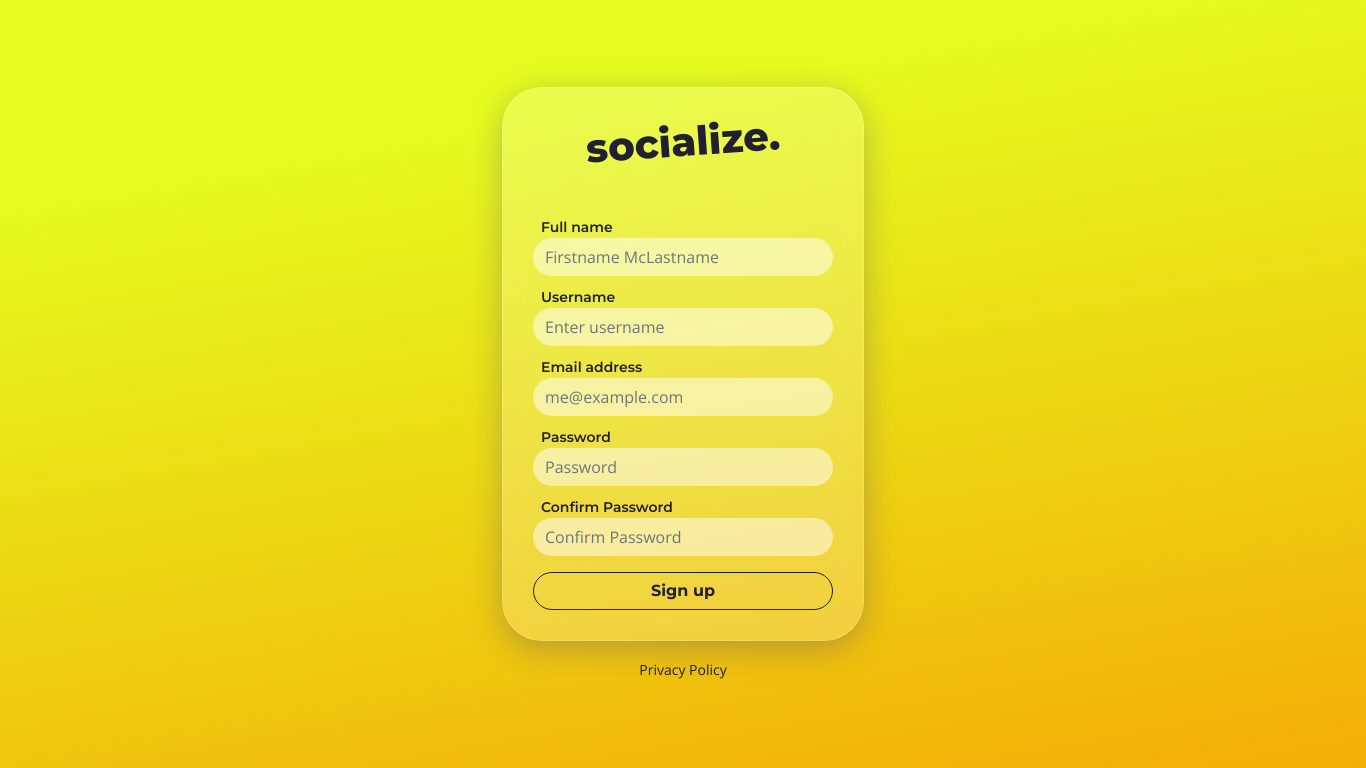
Scenario: Sign up page › Functionality › displays error message if passwords don't match
Fill with unmatching passwords
Type "Cypress Tester" into the field named "name".
click(683, 257); type("Cypress Tester")  # box x1=533 y1=238 x2=833 y2=276
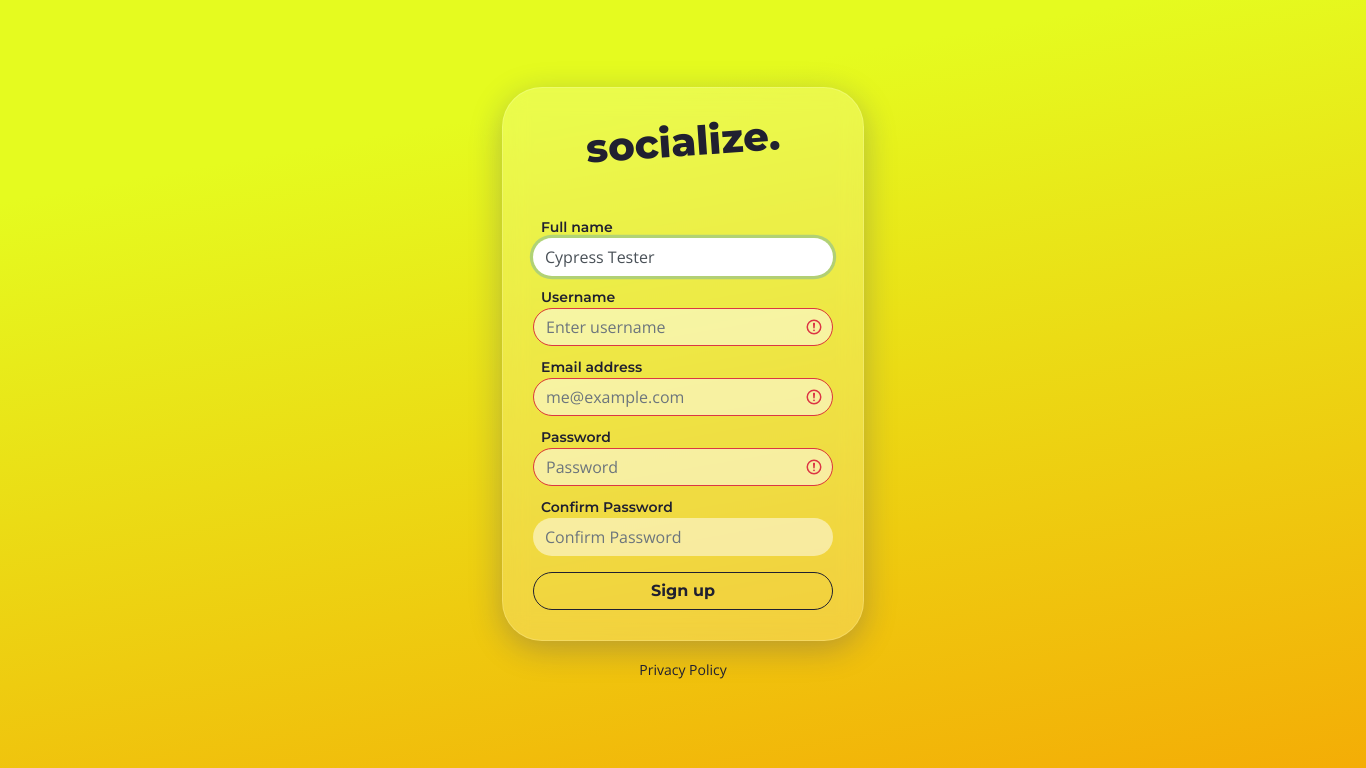
Type "cypresstester" into the field named "username".
click(683, 327); type("cypresstester")  # box x1=533 y1=308 x2=833 y2=346
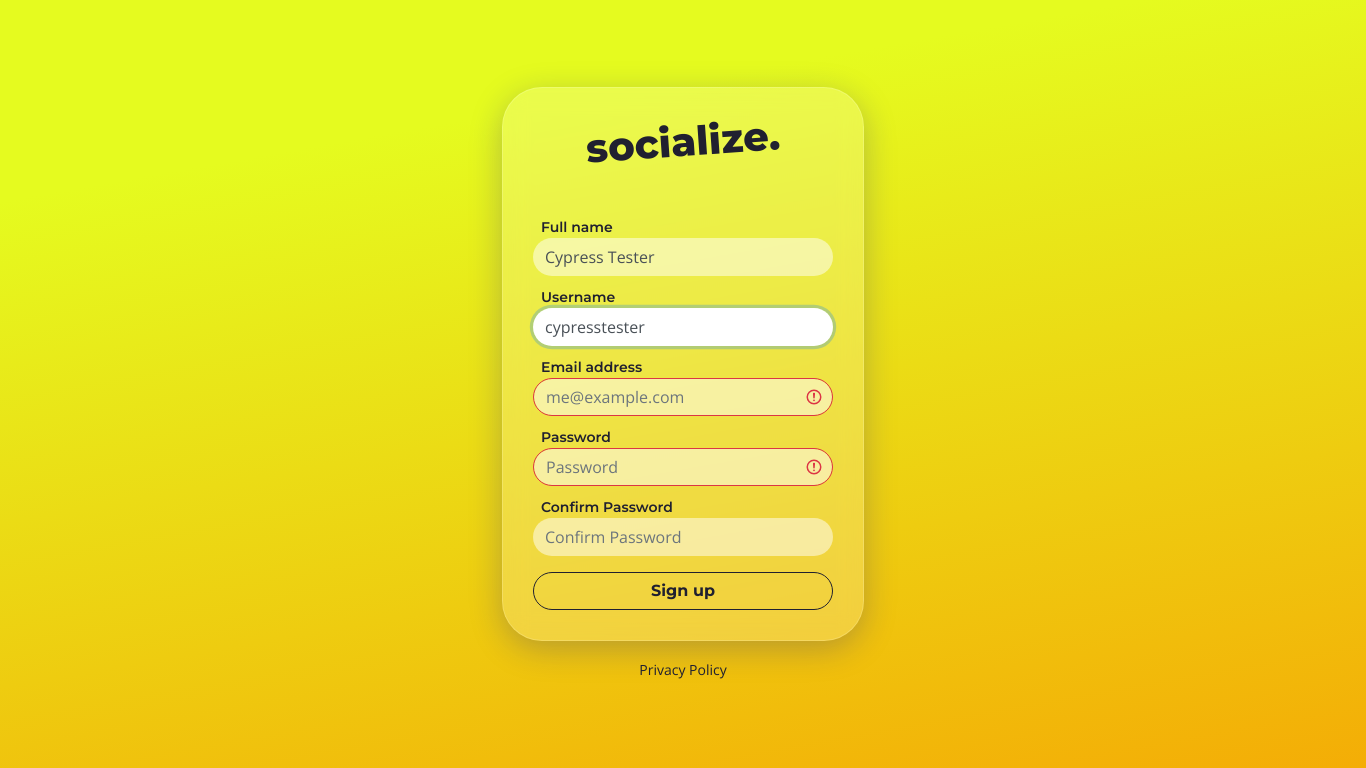
Type "cypress@example.com" into the field named "email".
click(683, 397); type("cypress@example.com")  # box x1=533 y1=378 x2=833 y2=416
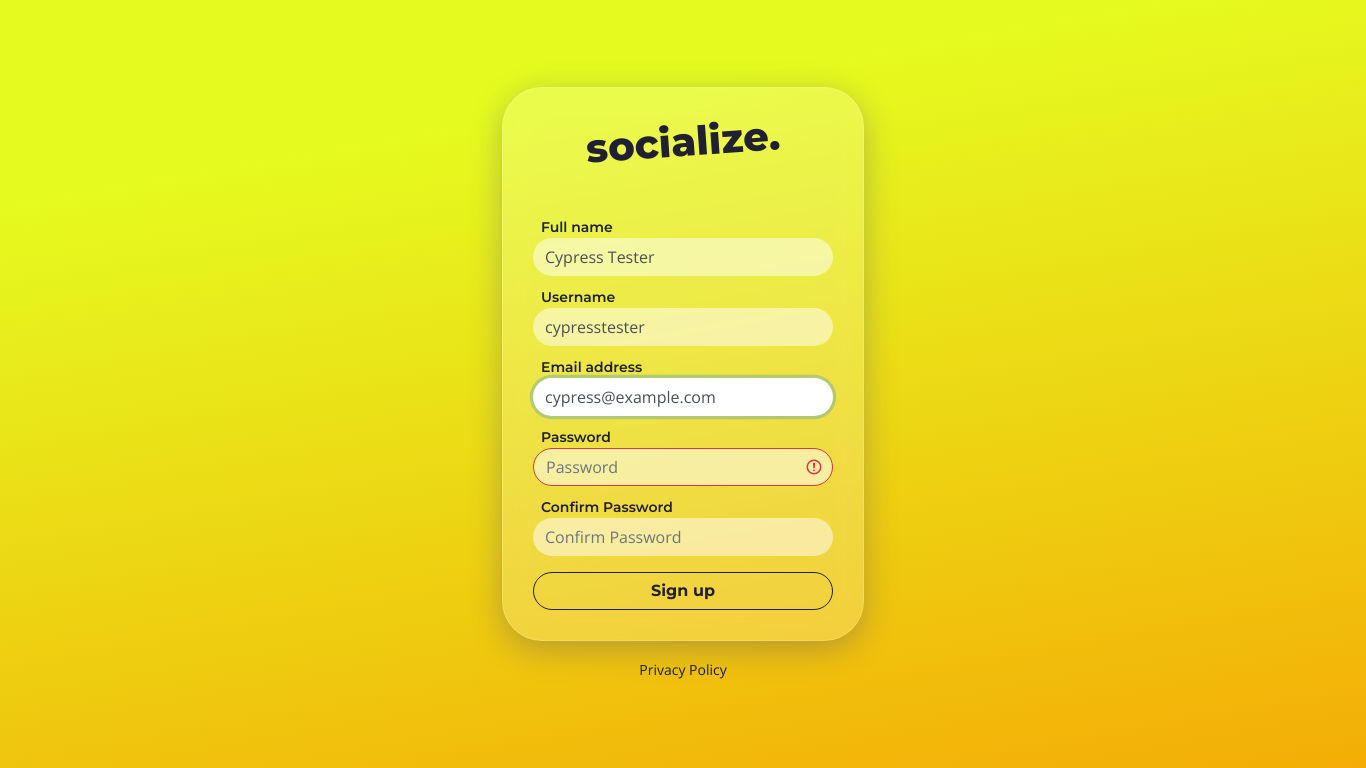
Type "12345678" into the password field named "password".
click(683, 467); type("12345678")  # box x1=533 y1=448 x2=833 y2=486
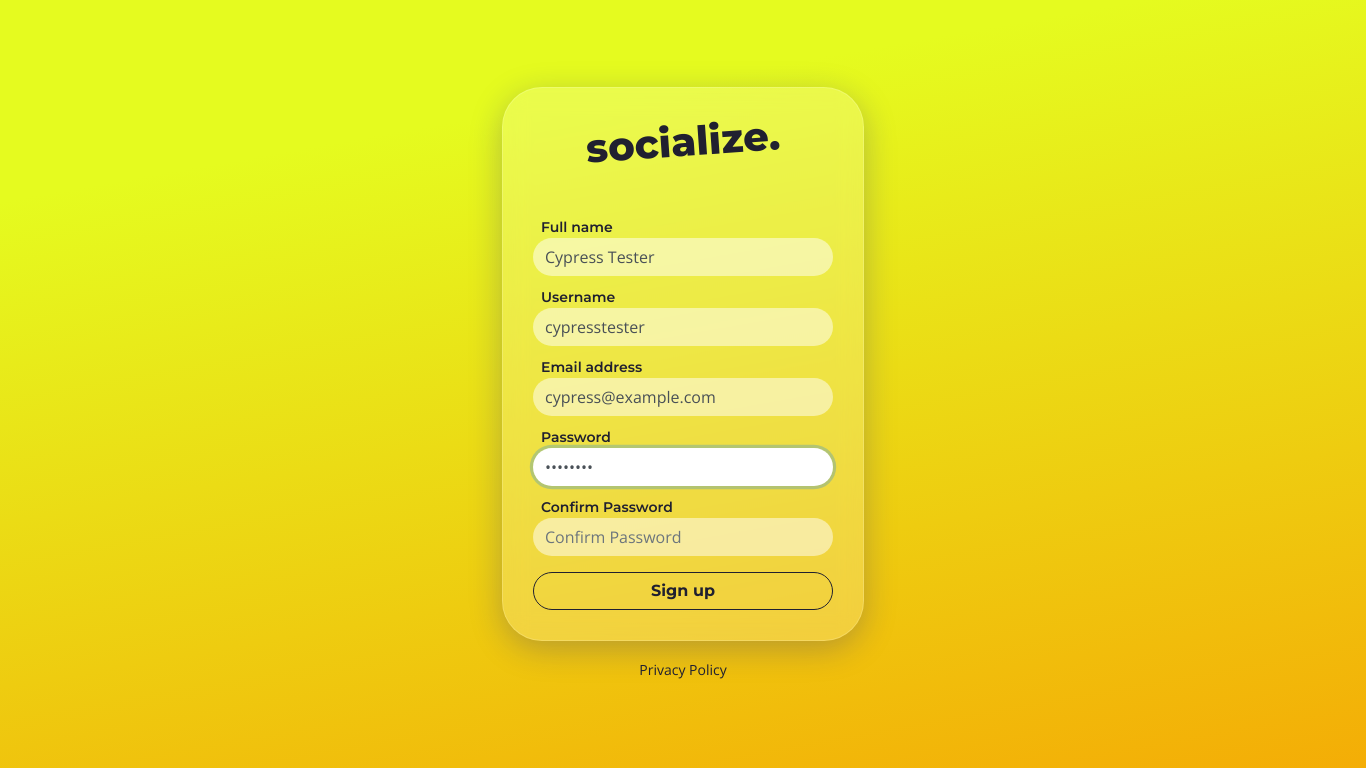
Type "password" into the password field named "passwordConf".
click(683, 537); type("password")  # box x1=533 y1=518 x2=833 y2=556
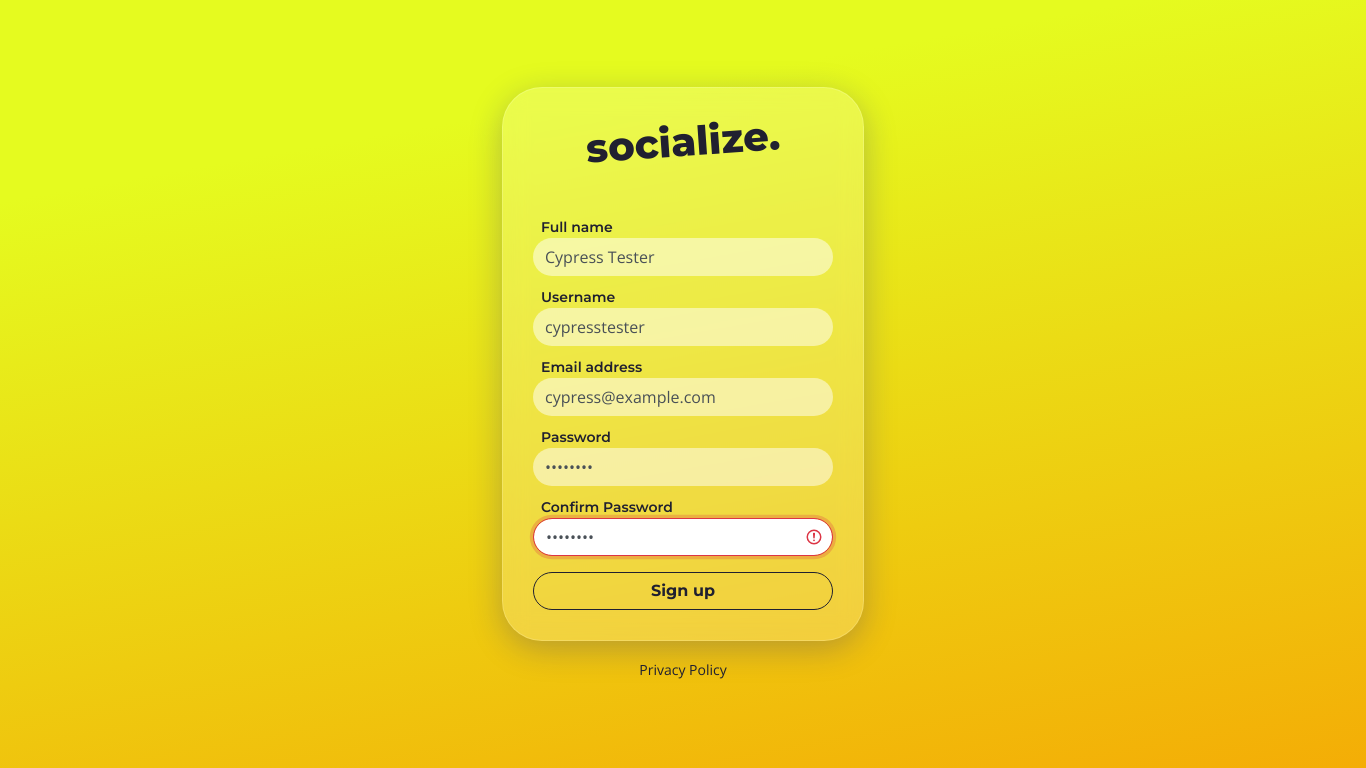
Click the button "Sign up".
click(683, 591)  # box x1=533 y1=572 x2=833 y2=610
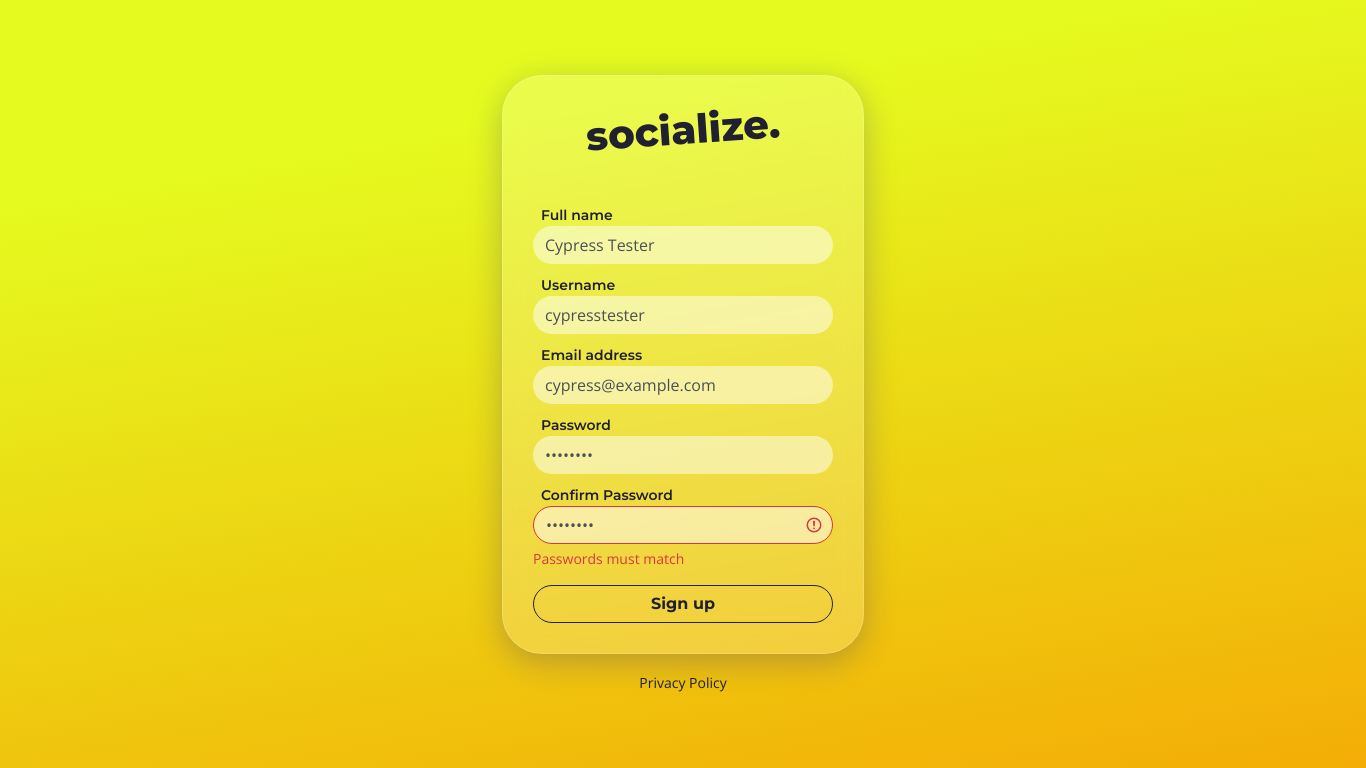
Expected: the text "Passwords must match" is shown, x1=533 y1=548 x2=684 y2=568
